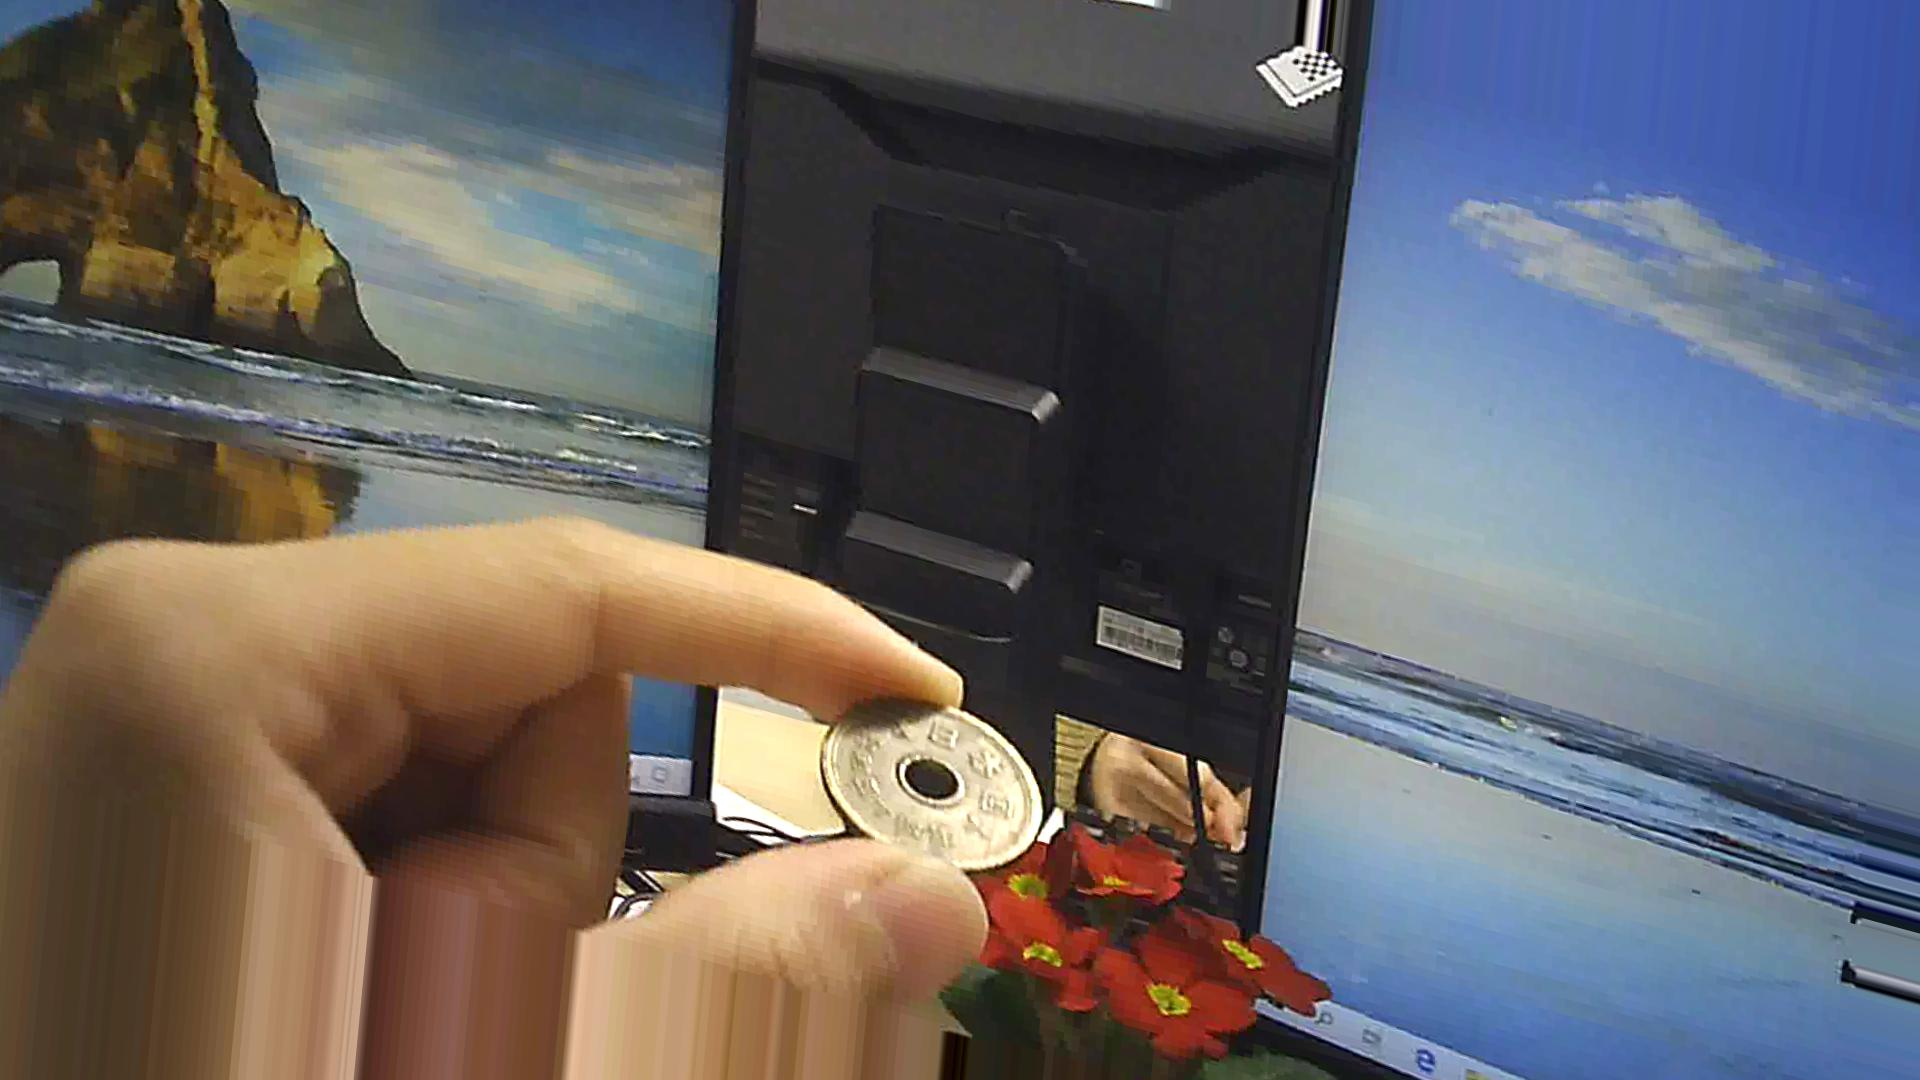5 Yen: (804, 675, 1055, 878)
